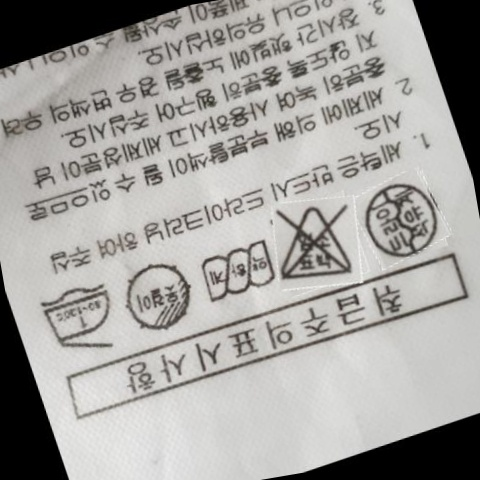dry_clean_petrol_only: (360, 171, 445, 267)
iron_low: (39, 276, 127, 358)
line_dry_in_shade: (117, 251, 207, 342)
non_chlorine_bleach: (274, 198, 361, 286)
wring: (197, 233, 282, 309)
